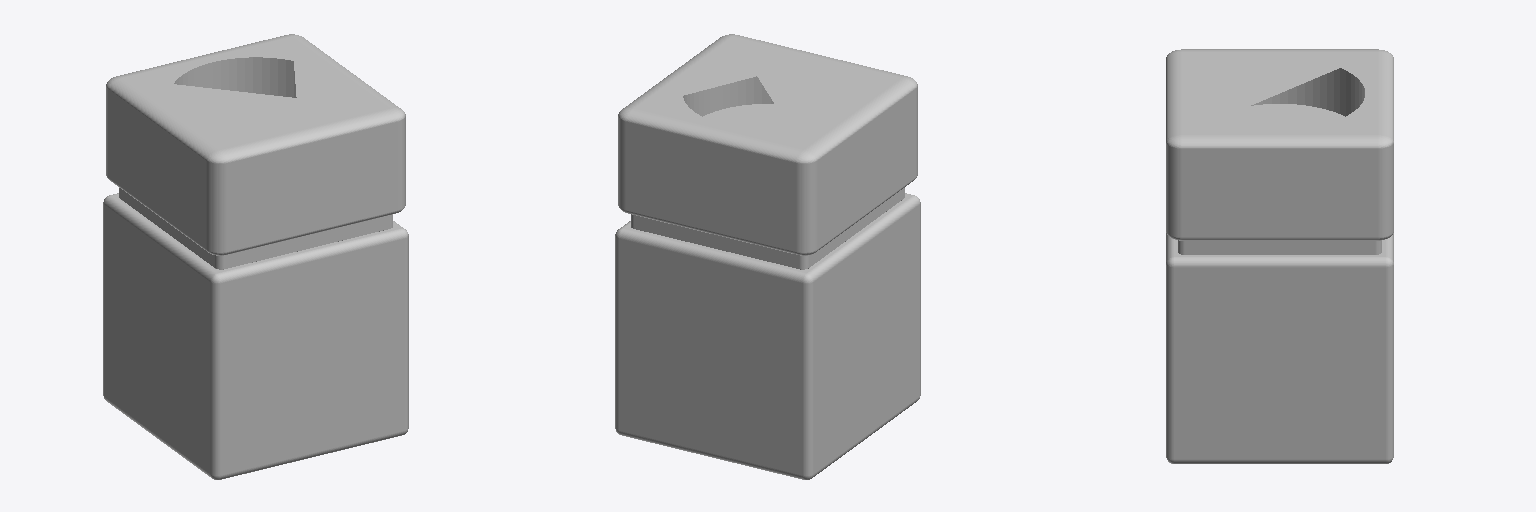
File: shortLightHoleSquare.obj
3 views of the same model, side by side, from view 1: azimuth 30°, elevation 25°; view 2: azimuth 150°, elevation 25°; view 3: azimuth 270°, elevation 25° (orthographic).
Visible parts, largest first — view 1: Cube_Cube.002, Cube.002_Cube.001, Cube.001_Cube.003; view 2: Cube_Cube.002, Cube.002_Cube.001, Cube.001_Cube.003; view 3: Cube_Cube.002, Cube.002_Cube.001, Cube.001_Cube.003.
Boxes of the visible parts, x1=… form: Cube_Cube.002: x1=103, y1=193, x2=408, y2=479; Cube.002_Cube.001: x1=106, y1=34, x2=405, y2=255; Cube.001_Cube.003: x1=119, y1=188, x2=392, y2=269; Cube_Cube.002: x1=615, y1=193, x2=920, y2=479; Cube.002_Cube.001: x1=618, y1=34, x2=917, y2=255; Cube.001_Cube.003: x1=631, y1=188, x2=904, y2=269; Cube_Cube.002: x1=1166, y1=233, x2=1393, y2=463; Cube.002_Cube.001: x1=1166, y1=49, x2=1393, y2=240; Cube.001_Cube.003: x1=1178, y1=240, x2=1381, y2=254.
Bounding box in the file's own units: 2 × 3.15 × 2.